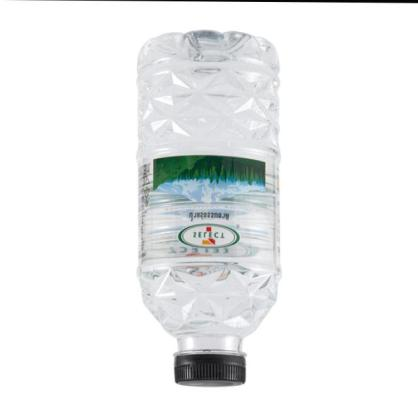bottle: (134, 30, 280, 389)
cap: (172, 350, 247, 387)
label: (138, 152, 275, 270)
